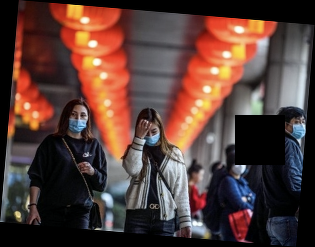with_mask: (66, 108, 89, 135), (287, 115, 306, 141), (141, 126, 161, 147), (231, 159, 248, 177)
